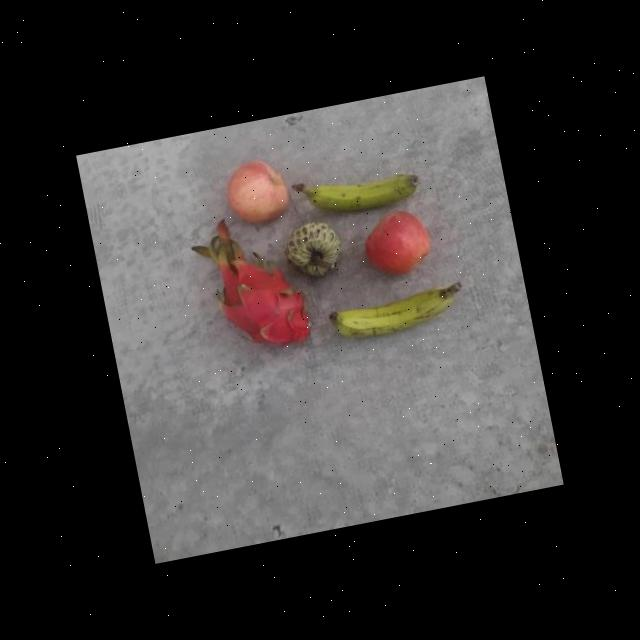Sakya fruit: (273, 209, 351, 286)
apple: (352, 204, 442, 292), (214, 152, 298, 235)
banana: (325, 277, 466, 354), (293, 156, 424, 227)
pitaya: (211, 250, 327, 361)
